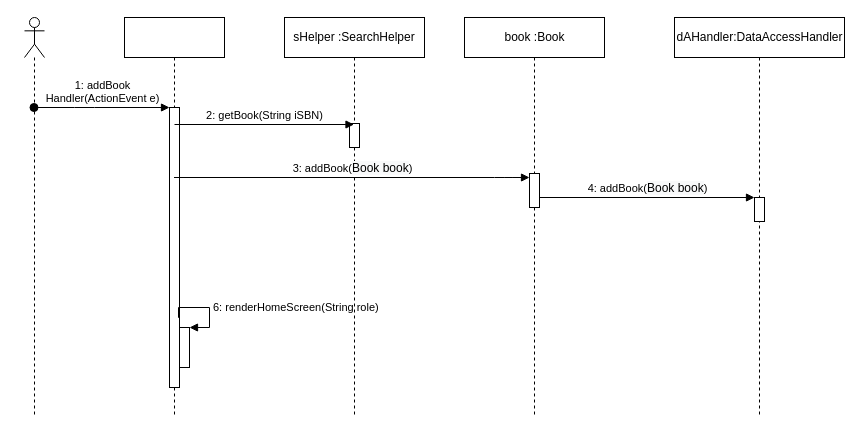
Some shapes in this 862 by 435 pixel diagram are drawn without their labels. The shapes that lost their labels are listed below. From the top down, each one's box as (x1, y1, x2, y2) in pixels, then its label:
(24, 16, 44, 418): Admin
(124, 16, 224, 418): start :Start
